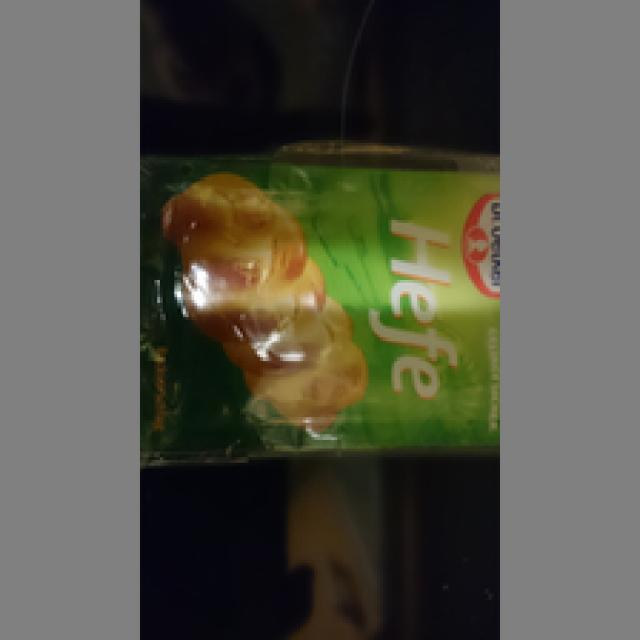groceries: (134, 154, 497, 469)
